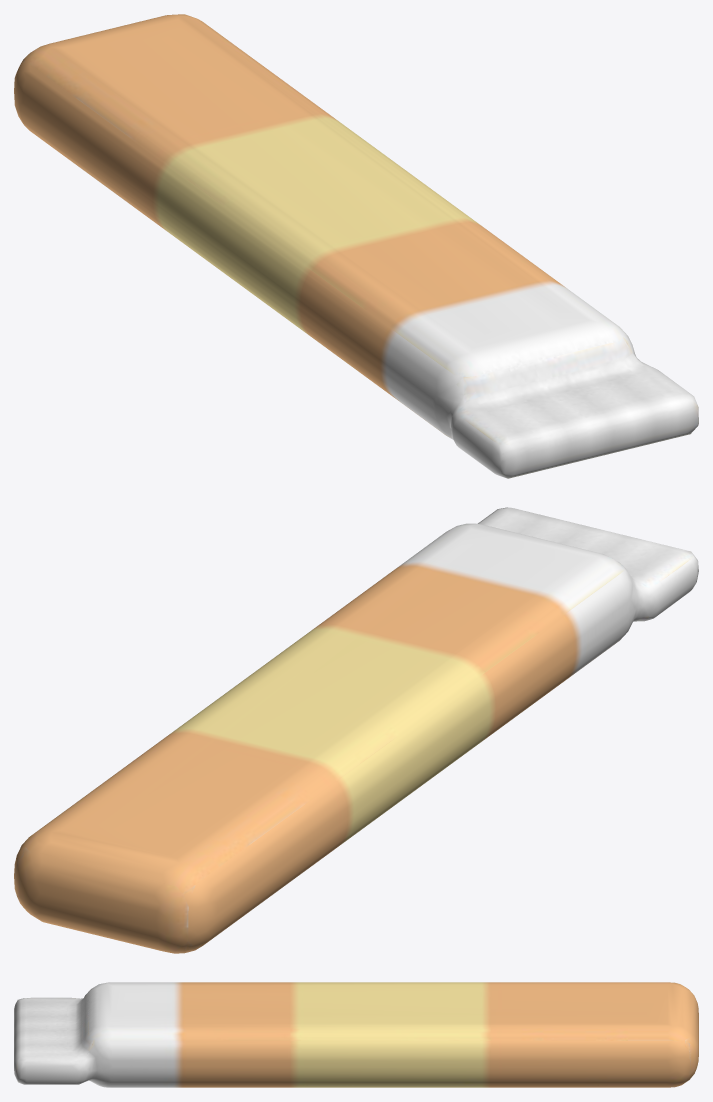
Rendered from churu.glb.
3 views of the same model, one above another, from view 1: azimuth 30°, elevation 25°; view 2: azimuth 150°, elevation 25°; view 3: azimuth 270°, elevation 25° (orthographic). The views are drawn at different scales.
Parts seen in each view (by area): view 1: churu.001; view 2: churu.001; view 3: churu.001.
Boxes of the visible parts, x1,y1,x2,y2 form: churu.001: (14,14,698,478); churu.001: (14,507,698,953); churu.001: (14,982,698,1087).
Size of the model in its own units: 0.0336 by 0.014 by 0.144.
1 material, 1 textured.
